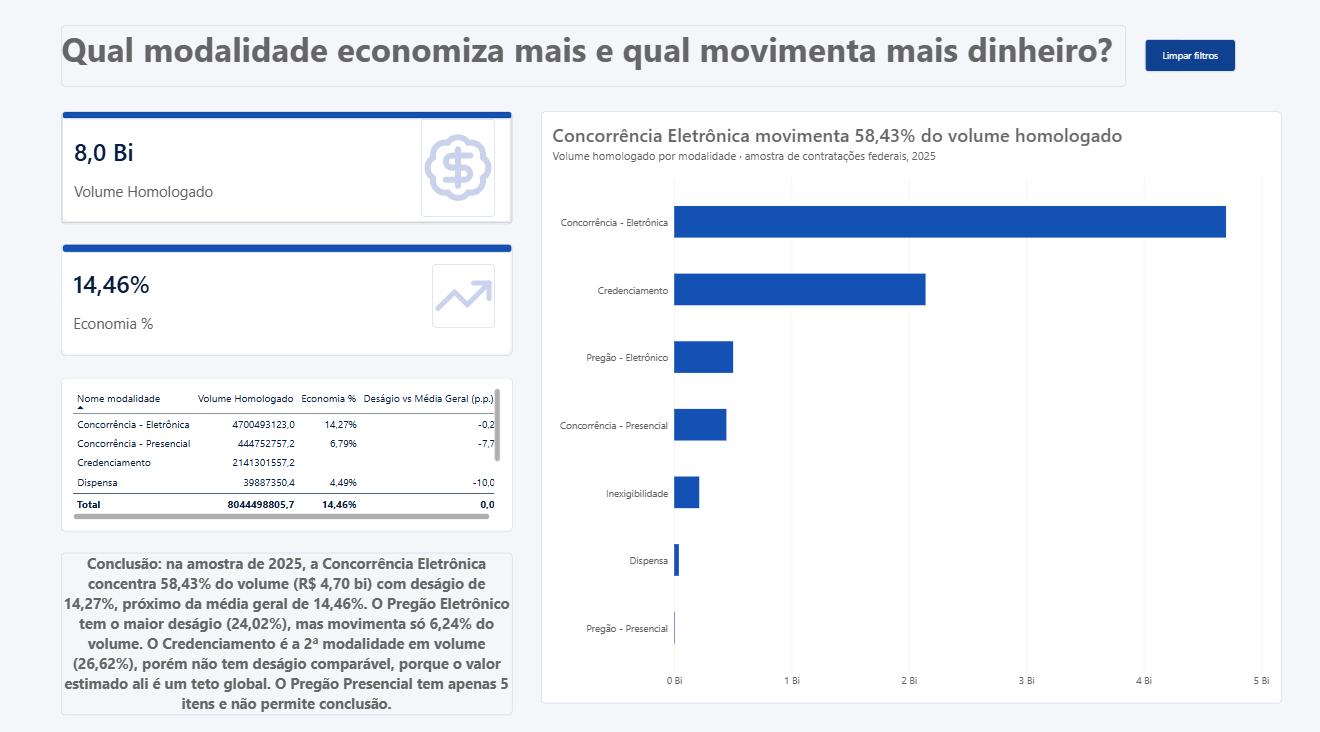

This screenshot's page, from the dashboard's own definition file:
{"tool":"powerbi","page":{"name":" Eficácia por modalidade","canvas":[1920,1080],"ordinal":2},"visuals":[{"type":"clusteredBarChart","title":"Concorrência Eletrônica movimenta 58,43% do volume homologado","fields":{"Category":["dim_modalidade.nome_modalidade"],"Y":["Medida.Volume Homologado"]},"box":[788.9,169.3,1071.8,856.6],"z":0},{"type":"cardVisual","fields":{"Data":["Medida.Volume Homologado"]},"box":[94.1,170.1,653.3,162.9],"z":1000},{"type":"cardVisual","fields":{"Data":["Medida.Economia %"]},"box":[94.1,361.9,653.4,161.4],"z":2000},{"type":"image","box":[615.6,181.3,107.6,141.4],"z":3000},{"type":"image","box":[631.6,390.9,90.5,92.3],"z":4000},{"type":"tableEx","fields":{"Values":["dim_modalidade.nome_modalidade","Medida.Volume Homologado","Medida.Economia %","Medida.Deságio vs Média Geral (p.p.)"]},"box":[94.1,555.6,653.3,222.6],"z":5000},{"type":"textbox","box":[94.1,808.9,653.3,235.3],"z":6000},{"type":"textbox","box":[94.1,45.2,1541.8,88.7],"z":7000},{"type":"shape","box":[95.9,170.1,651.5,10.9],"z":8000},{"type":"shape","box":[95.9,361.9,651.5,12.7],"z":9000},{"type":"actionButton","box":[1663.1,65.1,132,48],"z":10000}]}

Visuals, with their boxes in screenshot pixels (x1, y1, x2, y2), scaled from the page's 1920x1080 canvas onto the 1320x732 screenshot:
"Concorrência Eletrônica movimenta 58,43% do volume homologado" clusteredBarChart: select_region(542, 115, 1279, 695)
cardVisual - Medida.Volume Homologado: select_region(65, 115, 514, 226)
cardVisual - Medida.Economia %: select_region(65, 245, 514, 355)
image: select_region(423, 123, 497, 219)
image: select_region(434, 265, 496, 328)
tableEx - dim_modalidade.nome_modalidade x Medida.Volume Homologado: select_region(65, 377, 514, 527)
textbox: select_region(65, 548, 514, 708)
textbox: select_region(65, 31, 1125, 91)
shape: select_region(66, 115, 514, 123)
shape: select_region(66, 245, 514, 254)
actionButton: select_region(1143, 44, 1234, 77)
